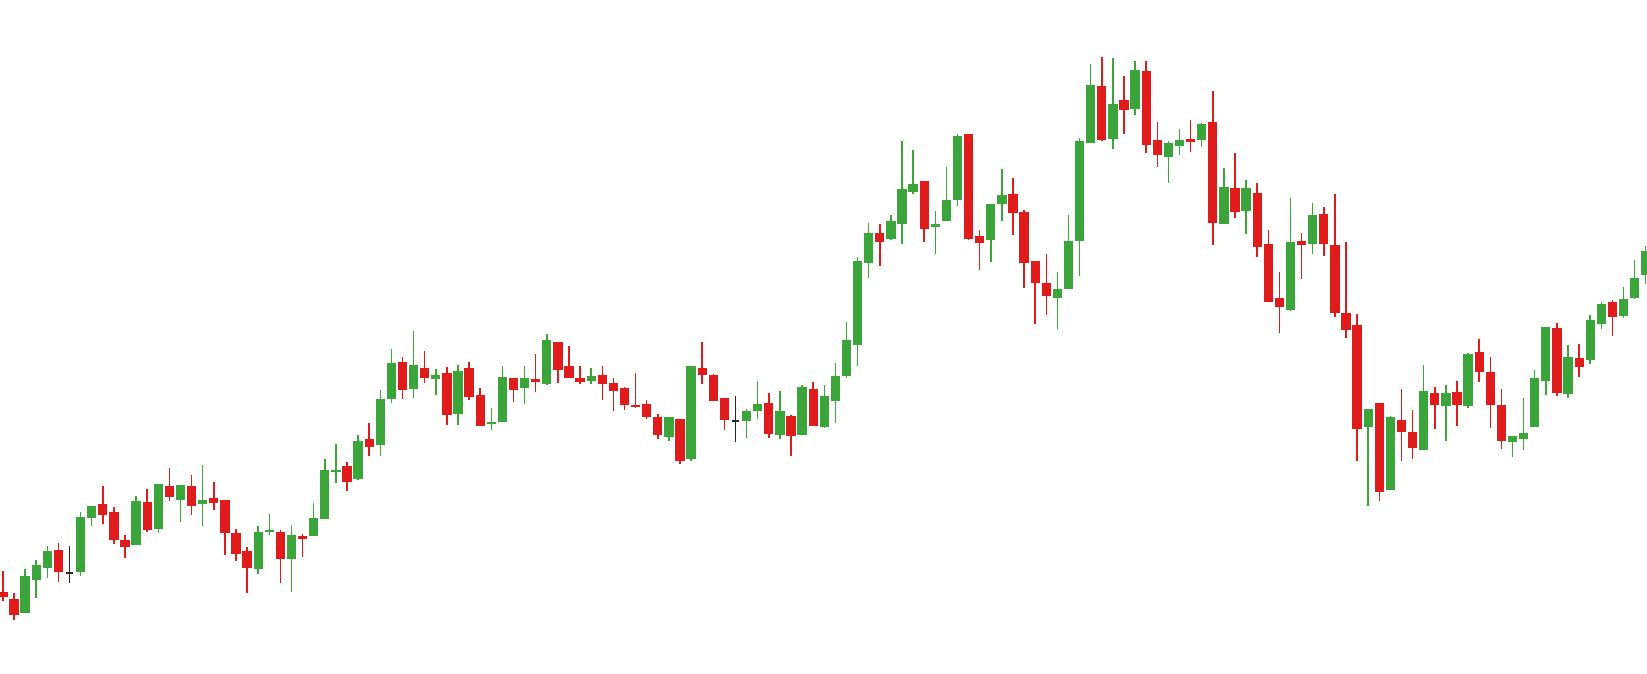buy: (119, 504, 265, 591), (976, 203, 1075, 329), (1439, 383, 1529, 461)
